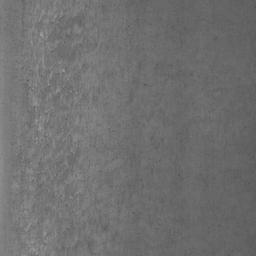Silk spot: (0, 0, 226, 256), (205, 102, 256, 201), (208, 200, 246, 234), (160, 18, 187, 49), (199, 166, 216, 191), (247, 231, 256, 256)
